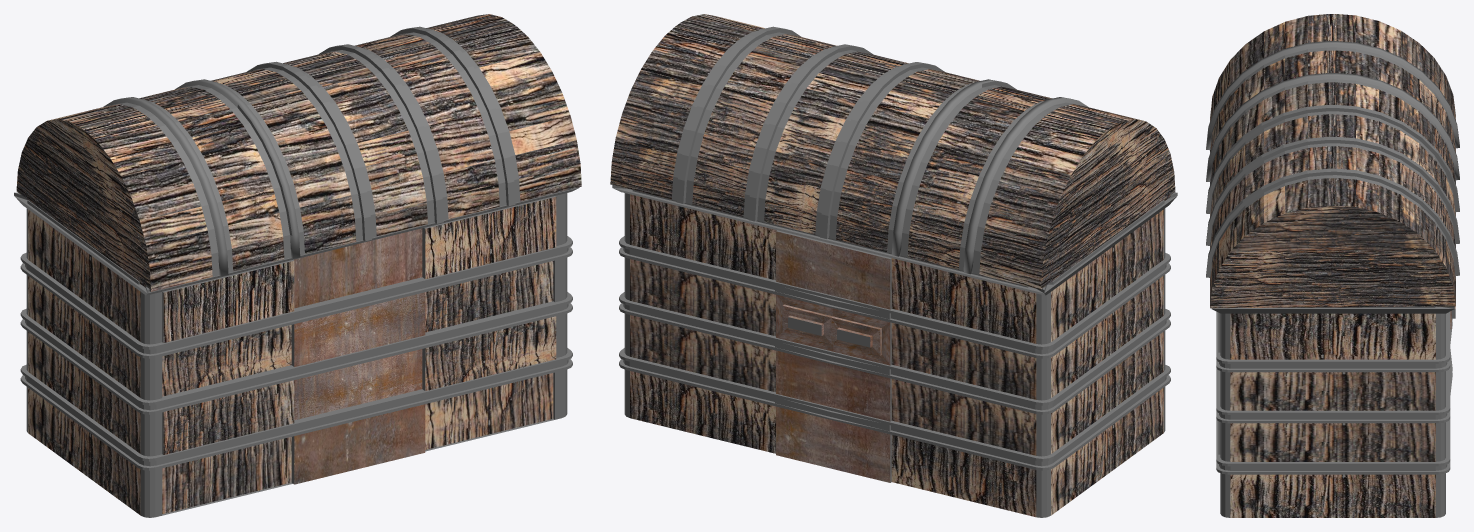
Rendered from Tesoro.obj.
The picture shows the model from 3 angles, left to right: view 1: azimuth 30°, elevation 25°; view 2: azimuth 150°, elevation 25°; view 3: azimuth 270°, elevation 25°; orthographic projection. The views are drawn at different scales.
Visible parts, largest first — view 1: pasted__Cylinder; view 2: pasted__Cylinder; view 3: pasted__Cylinder.
Part boxes in pixels (bbox=[...]): pasted__Cylinder: bbox=[14, 14, 581, 517]; pasted__Cylinder: bbox=[610, 14, 1177, 517]; pasted__Cylinder: bbox=[1206, 14, 1459, 517].
Size of the model in its own units: 0.3166 by 0.2429 by 0.1757.
Materials: 6 (3 with a texture image).
